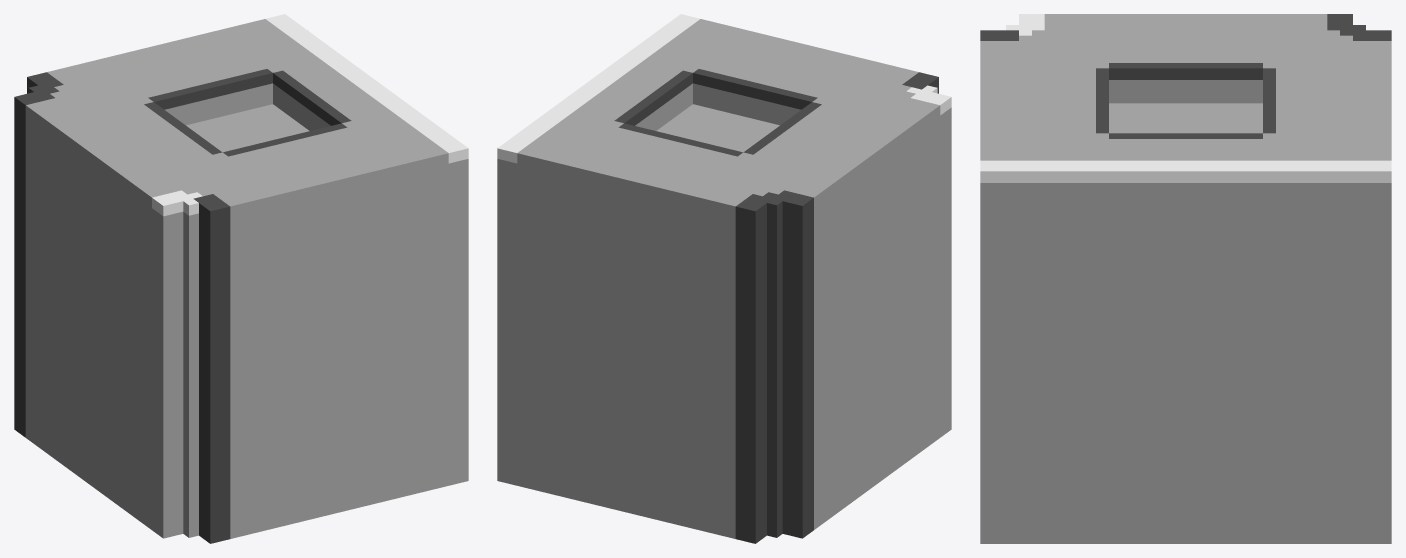
Rendered from 3JointE.obj.
3 views of the same model, side by side, from view 1: azimuth 30°, elevation 25°; view 2: azimuth 150°, elevation 25°; view 3: azimuth 270°, elevation 25° (orthographic). The views are drawn at different scales.
Bounding box in the file's own units: 29 × 32 × 32.
Materials: 1 (1 with a texture image).
